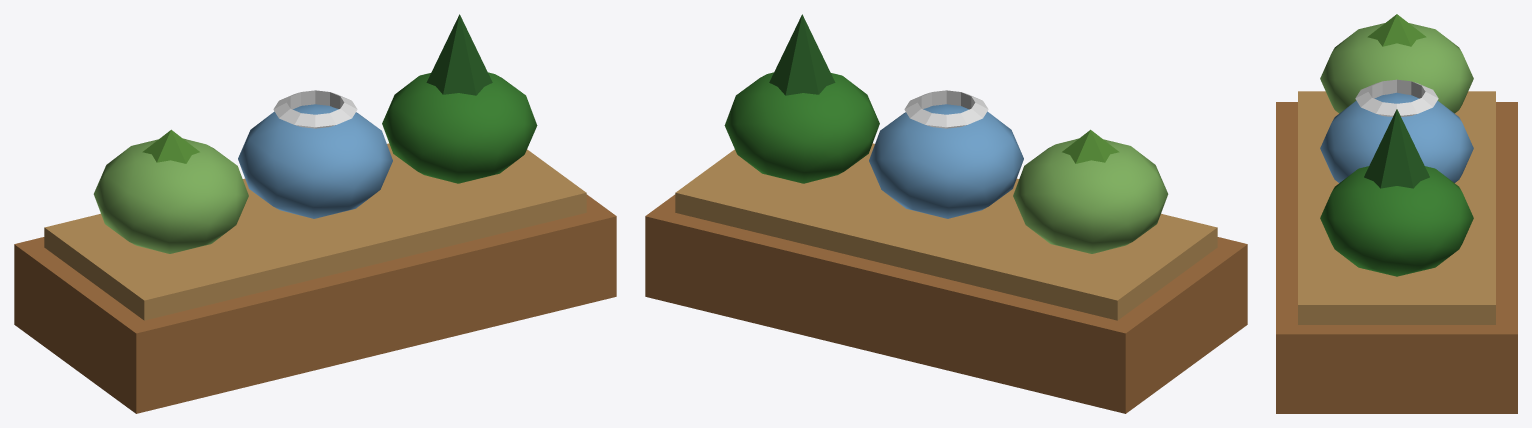
Rendered from guardian_keepsake.glb.
3 views of the same model, side by side, from view 1: azimuth 30°, elevation 25°; view 2: azimuth 150°, elevation 25°; view 3: azimuth 270°, elevation 25° (orthographic).
Parts seen in each view (by area): view 1: furniture-guardian_keepsake; view 2: furniture-guardian_keepsake; view 3: furniture-guardian_keepsake.
Boxes of the visible parts, box(x1,y1,x2,y2) form: furniture-guardian_keepsake: box(14, 14, 616, 413); furniture-guardian_keepsake: box(645, 14, 1247, 413); furniture-guardian_keepsake: box(1276, 14, 1517, 413).
Bounding box in the file's own units: 0.5 × 0.26 × 0.22.
